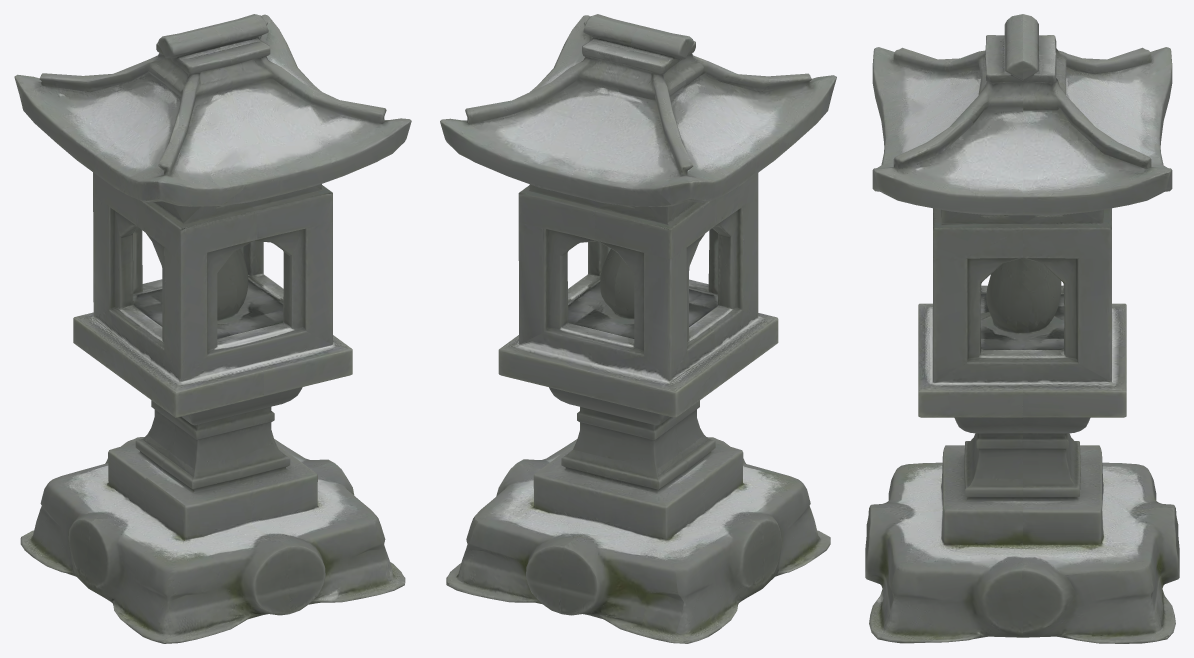
File: stone-lantern.opt.glb
3 renders of one model, left to right at view 1: azimuth 30°, elevation 25°; view 2: azimuth 150°, elevation 25°; view 3: azimuth 270°, elevation 25°, orthographic.
Bounding box in the file's own units: 0.9746 × 1.91 × 0.9981.
Materials: 1 (1 with a texture image).
